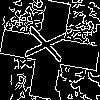X: (25, 25, 76, 66)
